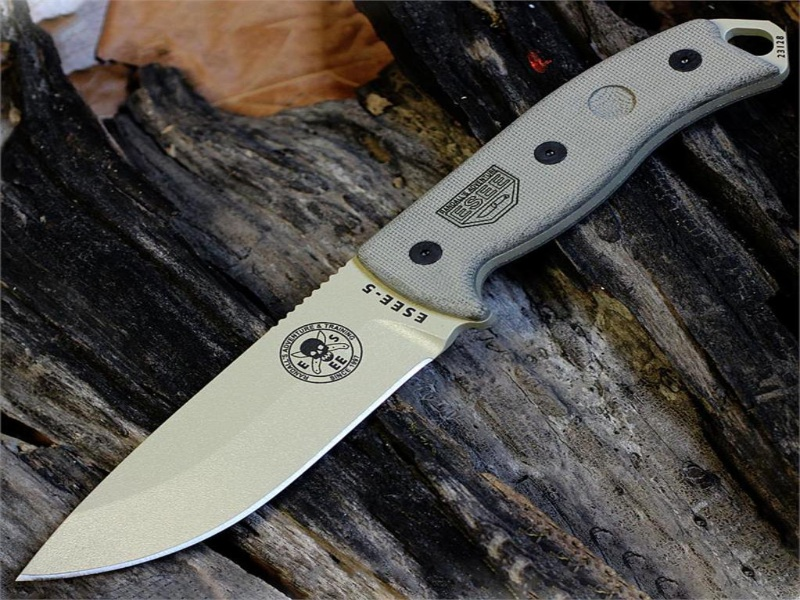knife: (11, 17, 788, 586)
